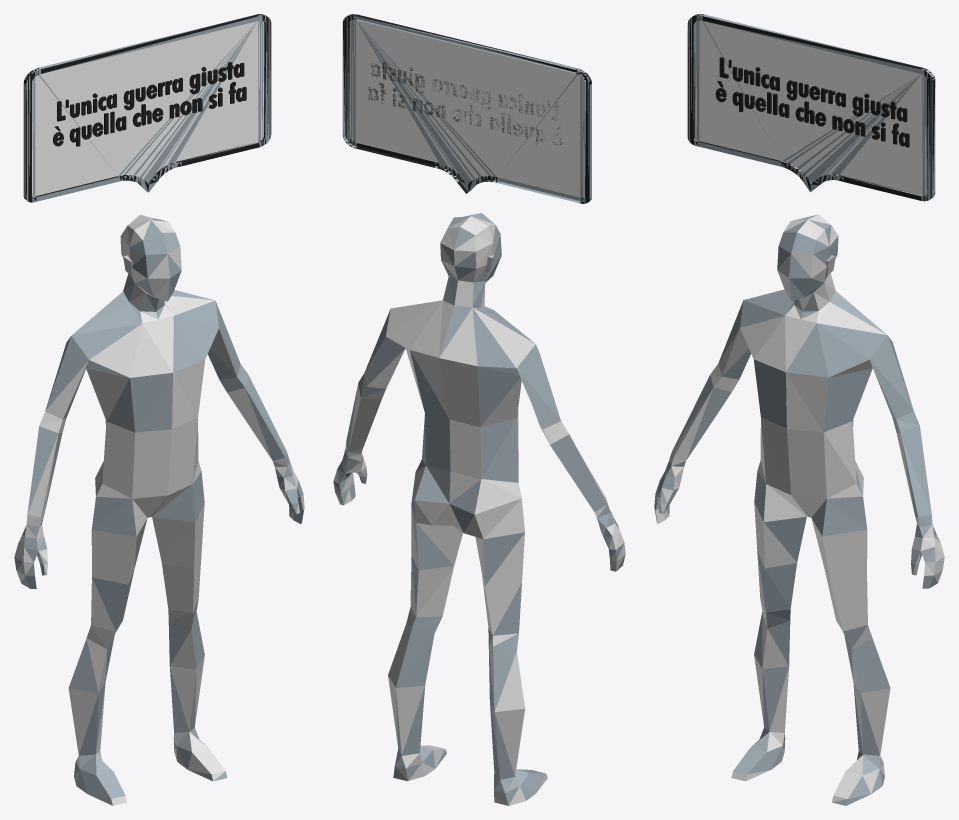
The model's file is Guerra2.obj.
The picture shows the model from 3 angles, left to right: view 1: azimuth 30°, elevation 25°; view 2: azimuth 150°, elevation 25°; view 3: azimuth 330°, elevation 25°; orthographic projection.
Parts seen in each view (by area): view 1: Guerra1; view 2: Guerra1; view 3: Guerra1.
Part boxes in pixels (left/top/right/bottom): Guerra1: left=14, top=14, right=304, bottom=805; Guerra1: left=333, top=14, right=625, bottom=805; Guerra1: left=654, top=14, right=944, bottom=805.
Bounding box in the file's own units: 0.7211 × 1.8 × 0.2384.
